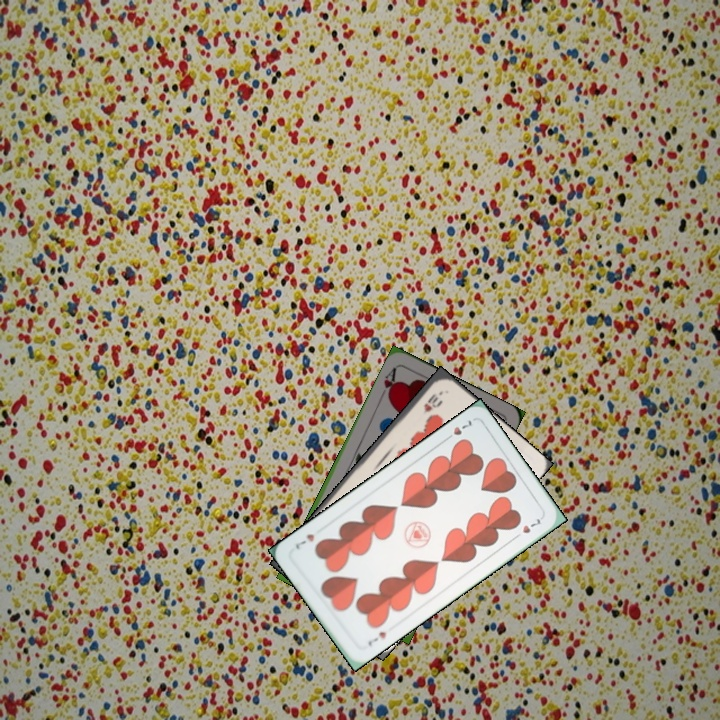H10: (418, 389, 441, 417)
H7: (440, 415, 474, 444), (364, 627, 388, 648)
HA: (376, 363, 400, 401)
